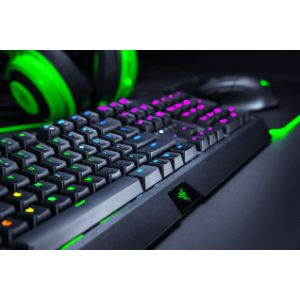headset: (1, 50, 140, 120)
keyboard: (1, 95, 274, 248)
mouse: (170, 67, 283, 110)
